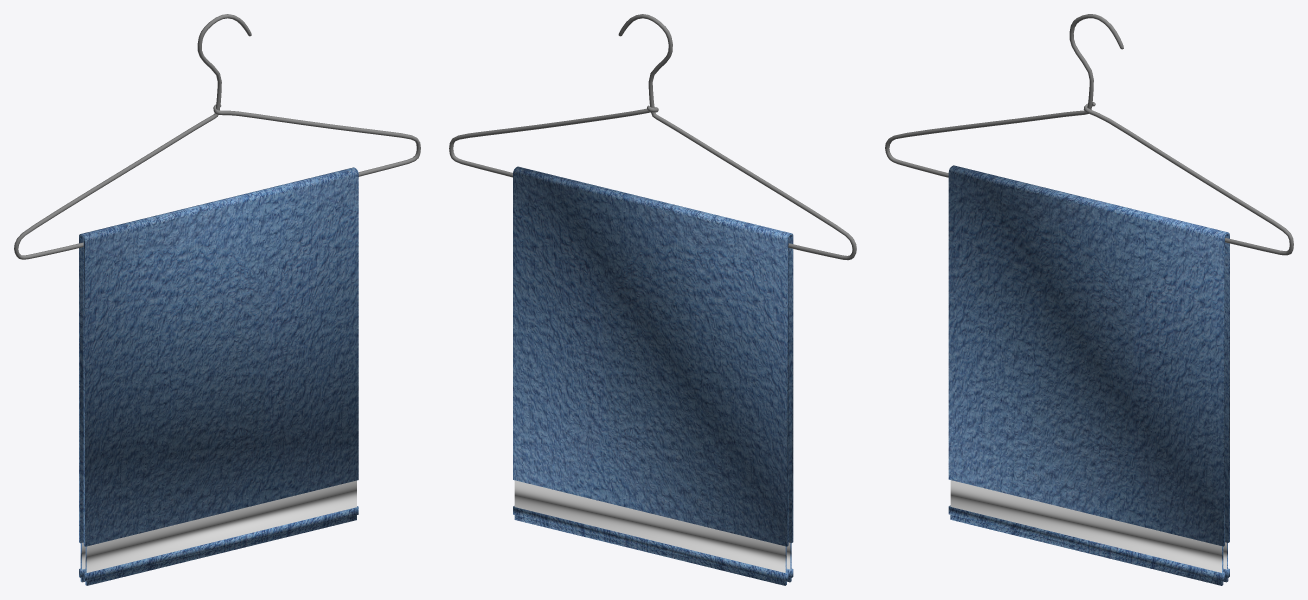
Rendered from towel.fbx.
The picture shows the model from 3 angles, left to right: view 1: azimuth 30°, elevation 25°; view 2: azimuth 150°, elevation 25°; view 3: azimuth 330°, elevation 25°; orthographic projection.
Visible parts, largest first — view 1: TOWEL, Cylinder; view 2: TOWEL, Cylinder; view 3: TOWEL, Cylinder.
Part boxes in pixels (x1,y1,x2,y2): TOWEL: [79, 167, 358, 585]; Cylinder: [14, 14, 420, 259]; TOWEL: [513, 166, 793, 585]; Cylinder: [449, 14, 856, 260]; TOWEL: [948, 165, 1229, 585]; Cylinder: [885, 14, 1293, 255].
Size of the model in its own units: 1.54 by 1.93 by 0.0451.
3 materials, 1 textured.
